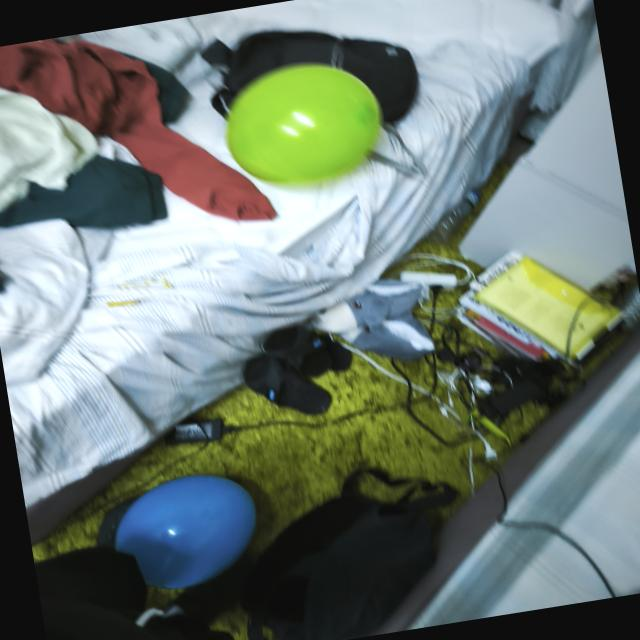balloon: (226, 63, 383, 184), (115, 476, 255, 589)
